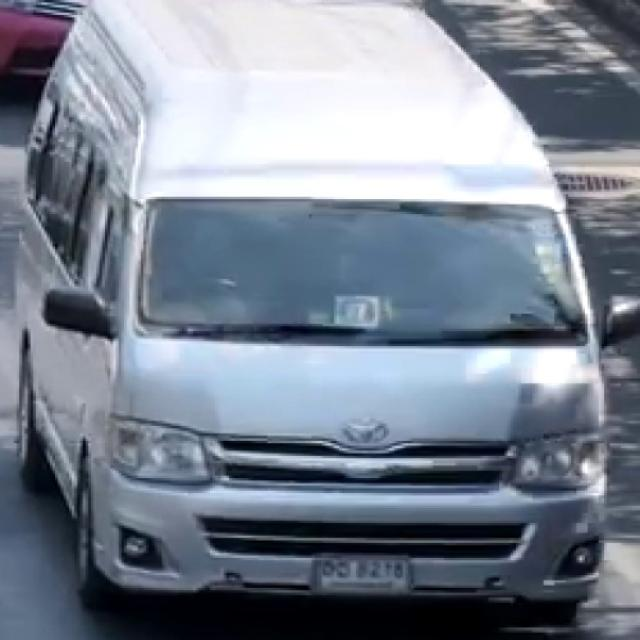plate: (313, 553, 410, 595)
